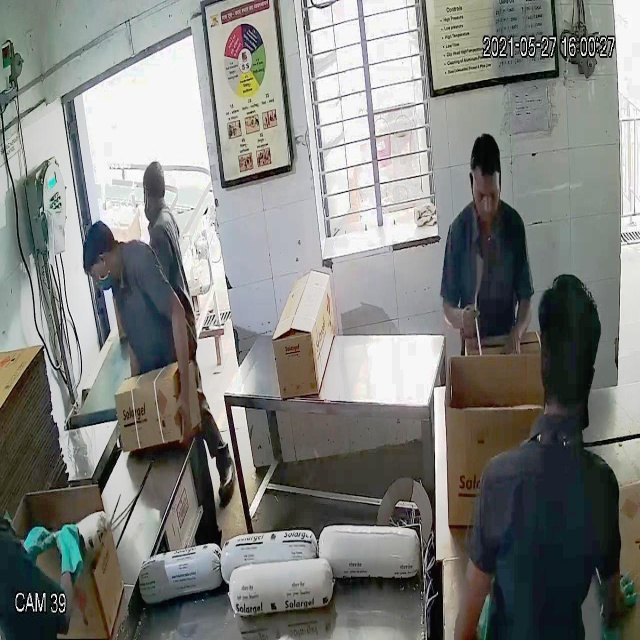Sin_gafas: (467, 176, 504, 211)
